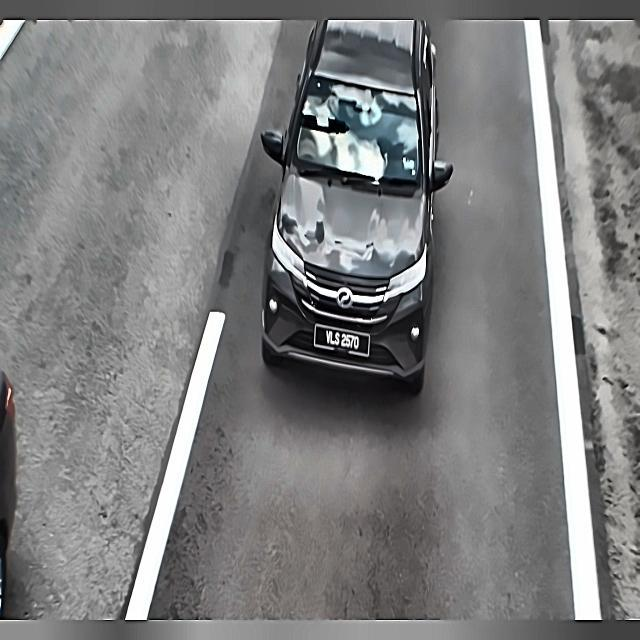car: (310, 320, 374, 361)
